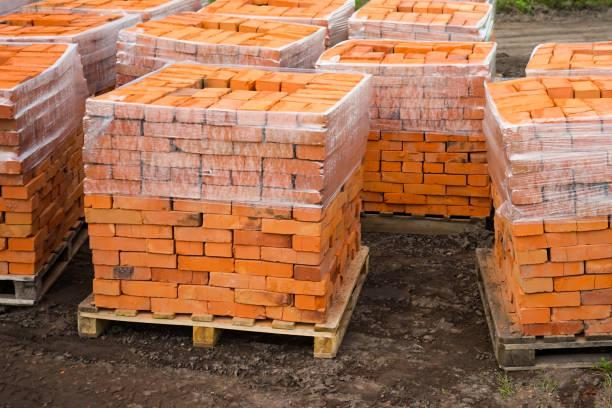Bricks: (517, 237, 612, 251), (542, 217, 612, 235), (198, 153, 259, 173), (263, 158, 330, 175), (552, 247, 611, 265), (210, 273, 265, 291), (152, 298, 207, 316), (231, 230, 291, 246), (515, 175, 579, 190), (144, 183, 200, 200), (509, 151, 565, 168), (174, 140, 233, 156), (234, 141, 292, 157), (263, 219, 320, 235), (236, 262, 292, 278), (142, 124, 201, 139), (261, 307, 323, 321), (154, 90, 191, 113), (176, 200, 232, 215), (112, 135, 168, 150), (95, 265, 147, 281), (175, 257, 229, 272), (118, 225, 175, 239), (205, 216, 258, 231), (121, 254, 177, 268), (212, 302, 261, 318), (84, 180, 140, 194), (178, 227, 230, 242), (526, 293, 578, 308), (234, 203, 289, 217), (124, 283, 179, 297), (201, 186, 260, 199), (147, 152, 198, 167), (176, 95, 216, 114), (182, 287, 232, 302), (153, 270, 206, 284), (264, 190, 317, 204), (88, 237, 144, 250), (91, 84, 129, 103), (118, 89, 158, 107), (145, 213, 200, 226), (96, 298, 151, 311), (268, 131, 326, 143), (263, 250, 312, 264), (555, 277, 612, 289), (577, 166, 608, 188), (297, 99, 341, 114), (525, 265, 580, 277), (86, 120, 136, 133), (117, 196, 170, 208), (270, 280, 321, 292), (235, 99, 273, 115), (511, 189, 546, 206), (208, 95, 241, 113), (87, 211, 140, 222), (234, 294, 285, 305), (556, 311, 612, 321), (528, 322, 578, 333), (226, 85, 258, 102), (235, 69, 269, 85), (514, 249, 546, 266), (205, 67, 243, 81), (446, 185, 490, 197), (423, 174, 468, 185), (193, 86, 231, 99), (523, 306, 552, 323), (169, 66, 201, 81), (270, 99, 306, 112), (169, 168, 200, 183), (425, 131, 467, 142), (405, 184, 446, 195), (84, 150, 116, 164), (249, 90, 281, 104), (535, 111, 569, 124), (382, 171, 422, 182), (548, 139, 571, 158), (298, 176, 325, 192), (403, 141, 446, 151), (445, 164, 488, 174), (202, 169, 230, 184), (232, 129, 262, 143), (424, 152, 466, 162), (590, 97, 612, 116), (116, 104, 142, 120), (446, 206, 487, 216), (204, 126, 231, 141), (177, 110, 204, 125), (386, 193, 426, 203), (364, 183, 403, 193), (447, 141, 485, 151), (408, 205, 446, 215), (508, 140, 535, 154), (363, 204, 405, 213), (383, 132, 424, 141), (427, 195, 468, 204), (264, 175, 290, 189), (83, 135, 111, 148), (145, 108, 171, 122), (82, 196, 112, 208), (521, 223, 543, 239), (490, 81, 512, 97), (293, 237, 320, 250), (85, 165, 112, 178), (384, 151, 423, 160), (143, 165, 168, 179), (283, 73, 312, 85), (269, 114, 292, 129), (497, 98, 546, 105), (115, 166, 141, 179), (205, 245, 233, 257), (368, 141, 401, 151), (121, 152, 146, 165), (292, 92, 338, 99), (292, 208, 321, 219), (524, 278, 553, 289), (233, 245, 257, 258), (206, 114, 234, 125), (88, 225, 118, 235), (149, 241, 174, 253), (92, 254, 122, 264), (93, 281, 118, 293), (297, 148, 327, 158), (237, 115, 264, 126), (579, 140, 612, 149), (90, 104, 111, 118), (177, 242, 201, 254), (234, 173, 258, 185), (180, 63, 204, 75), (544, 78, 566, 91), (509, 116, 529, 130), (125, 86, 159, 94), (575, 78, 592, 94), (584, 290, 611, 300), (302, 90, 346, 96), (261, 73, 287, 83), (501, 110, 553, 115), (297, 297, 320, 308), (299, 117, 320, 129), (588, 320, 608, 332), (321, 78, 355, 85), (295, 267, 316, 278), (524, 81, 547, 91), (424, 163, 444, 174), (468, 174, 488, 185), (403, 161, 422, 172), (316, 85, 350, 91), (154, 75, 178, 83), (380, 163, 401, 172), (363, 192, 384, 201), (324, 73, 357, 78), (470, 153, 488, 162), (471, 198, 491, 206), (137, 82, 167, 87), (365, 172, 381, 181), (366, 130, 380, 140), (365, 162, 378, 172), (591, 264, 612, 270), (468, 132, 483, 140), (571, 113, 590, 119), (366, 153, 380, 161), (567, 99, 585, 105), (565, 109, 586, 112)
